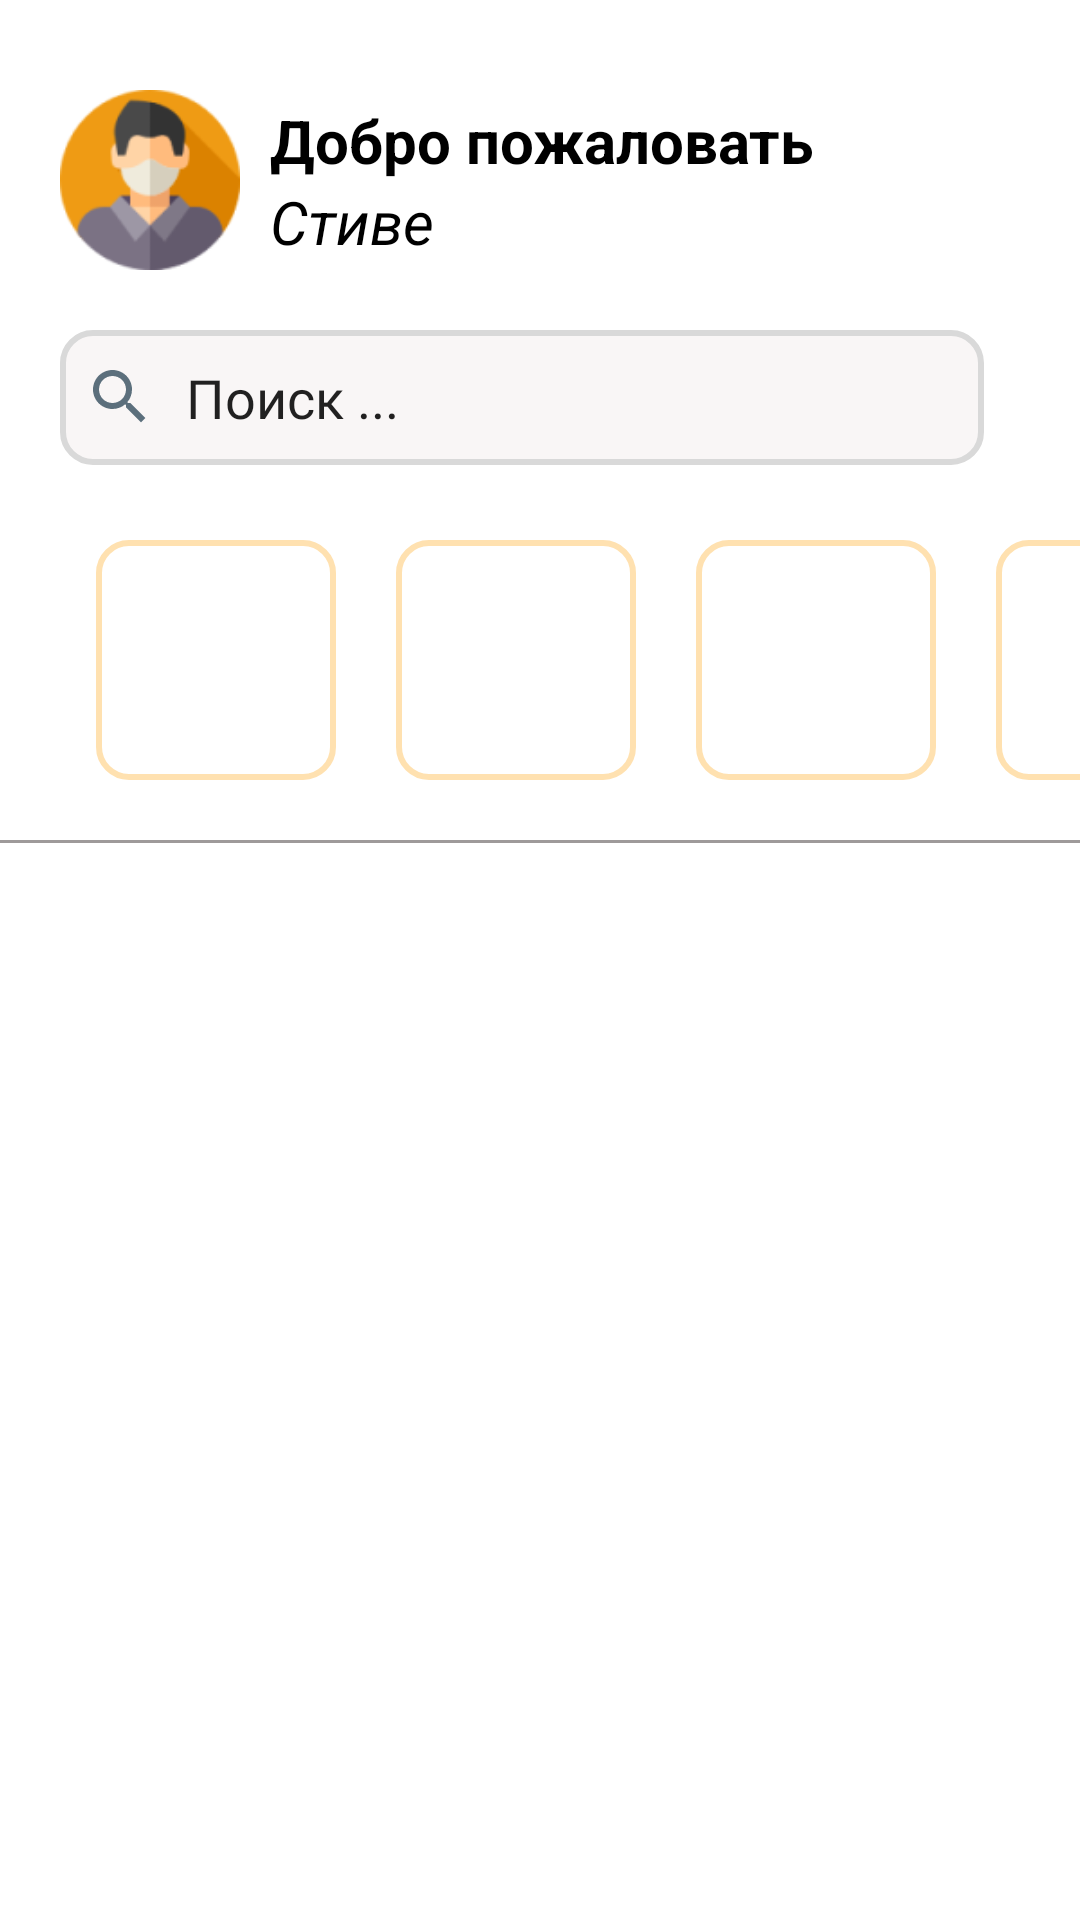

Where to tap for icons on this 1080w x 1920h app screen, as (x=x, y=y):
man: (x=150, y=180)
